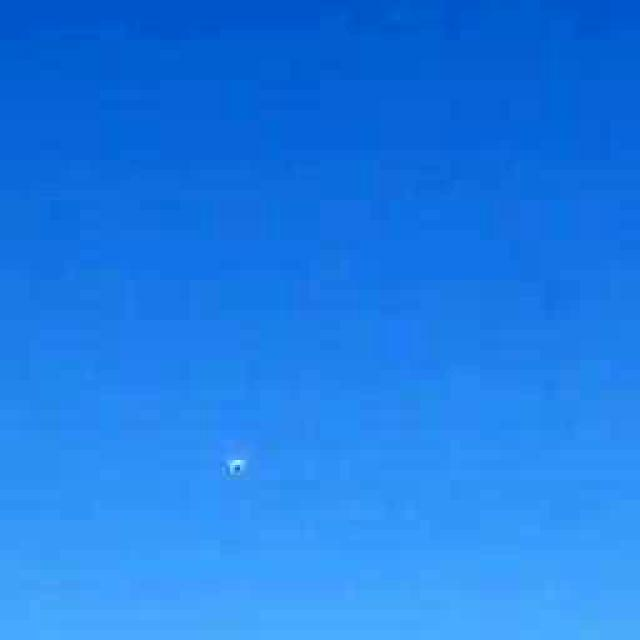bird: (201, 422, 274, 505)
